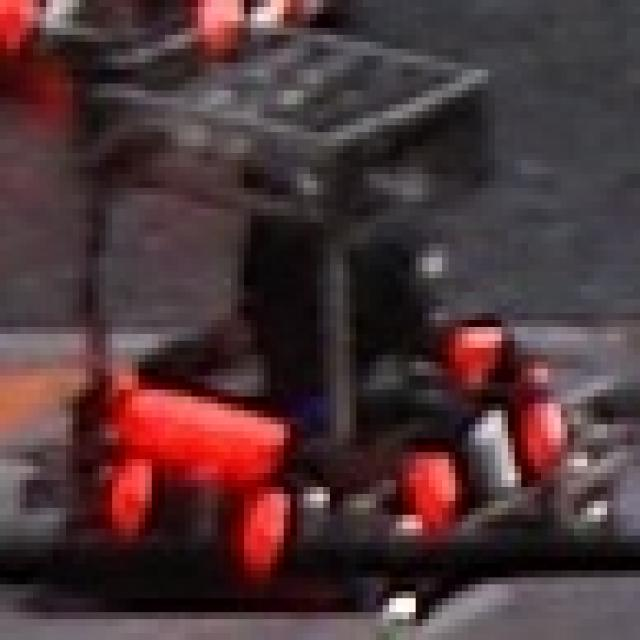R1: (389, 382, 581, 536), (99, 446, 284, 570)
